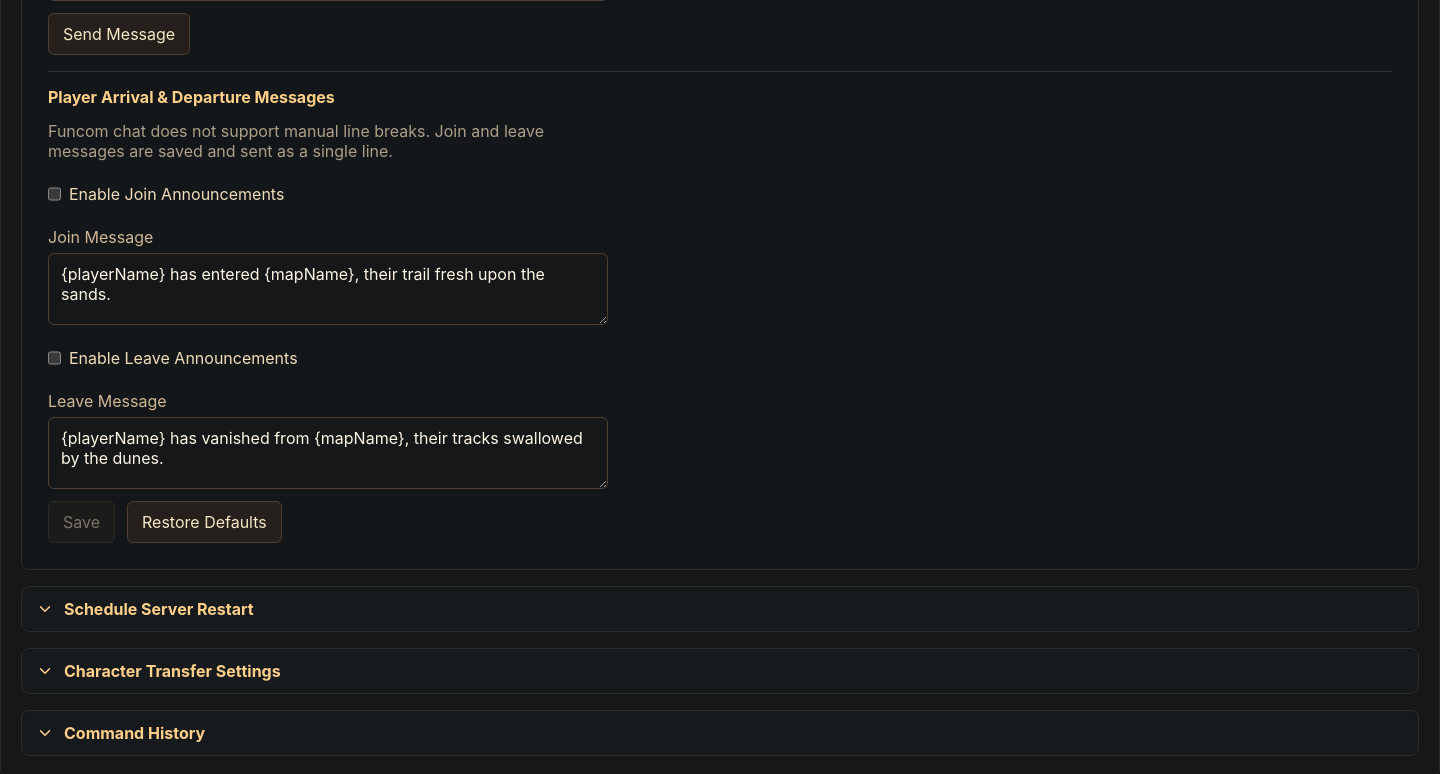
Test case: Character transfer live settings › allows an unchanged retry and displays the saved-but-not-applied error
(page scrolled)
Click the button with aria-label "Expand Character Transfer Settings". click: [172, 671]
box: [22,649,1418,693]
(page scrolled)
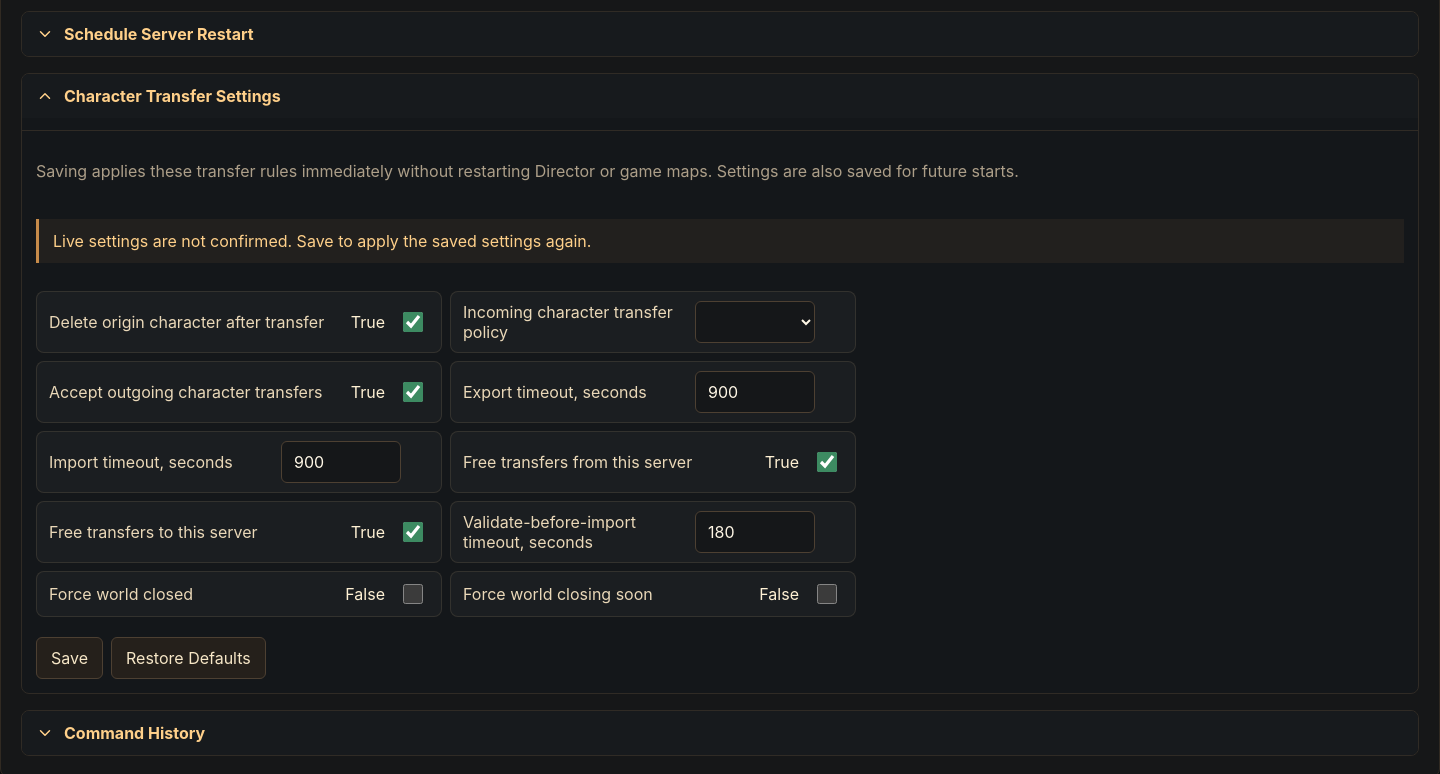
Now the number field labelled "Export timeout, seconds" is shown, box [695,371,815,413]
Now the button "Save" below "Force world closed" is enabled
Click the button "Save" below "Force world closed". click: [70, 658]
box: [36,637,103,679]
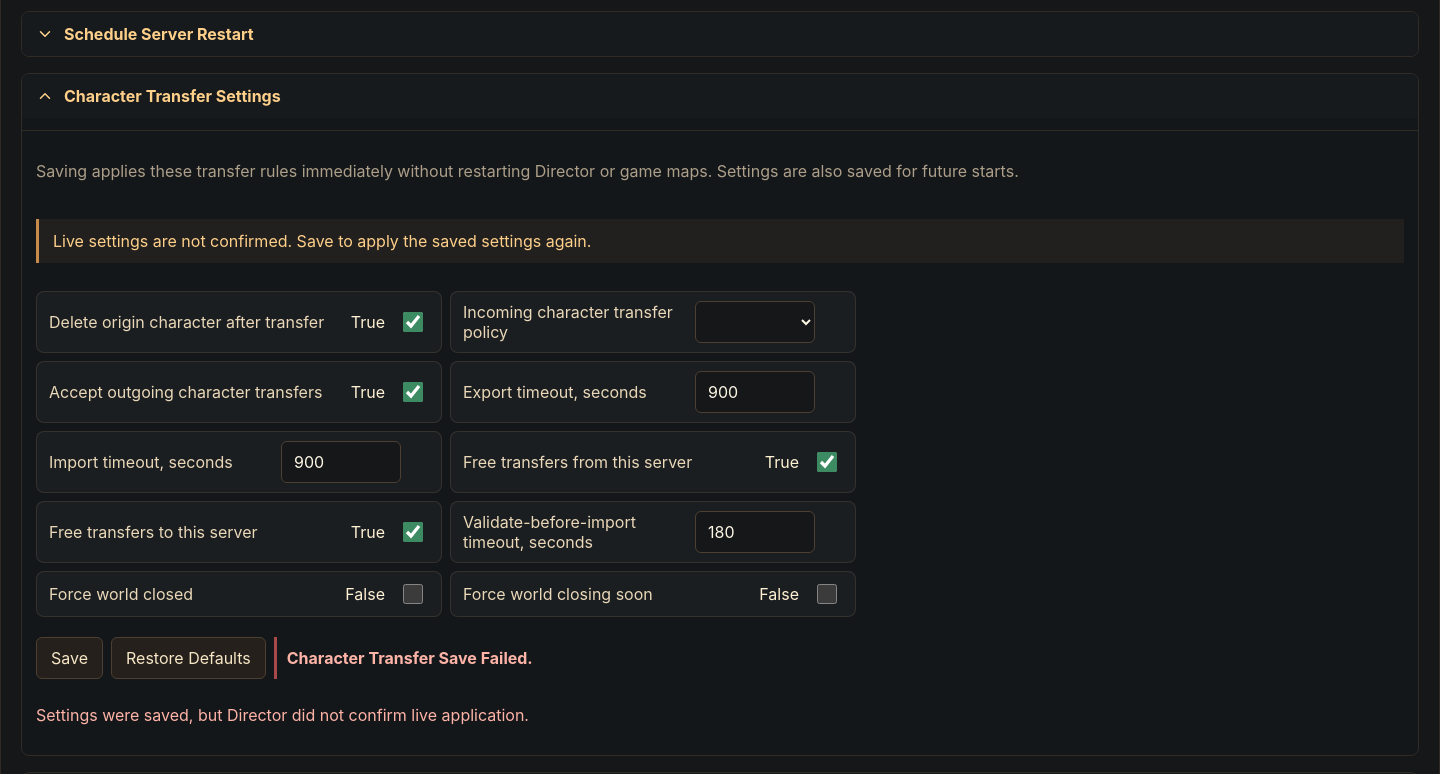
Now the button "Save" in the row of "Character Transfer Save Failed." is enabled
Now the message shows "Settings were saved", box [36,705,529,725]
Click the button "Save" in the row of "Character Transfer Save Failed.". click: [70, 658]
box: [36,637,103,679]
(page scrolled)
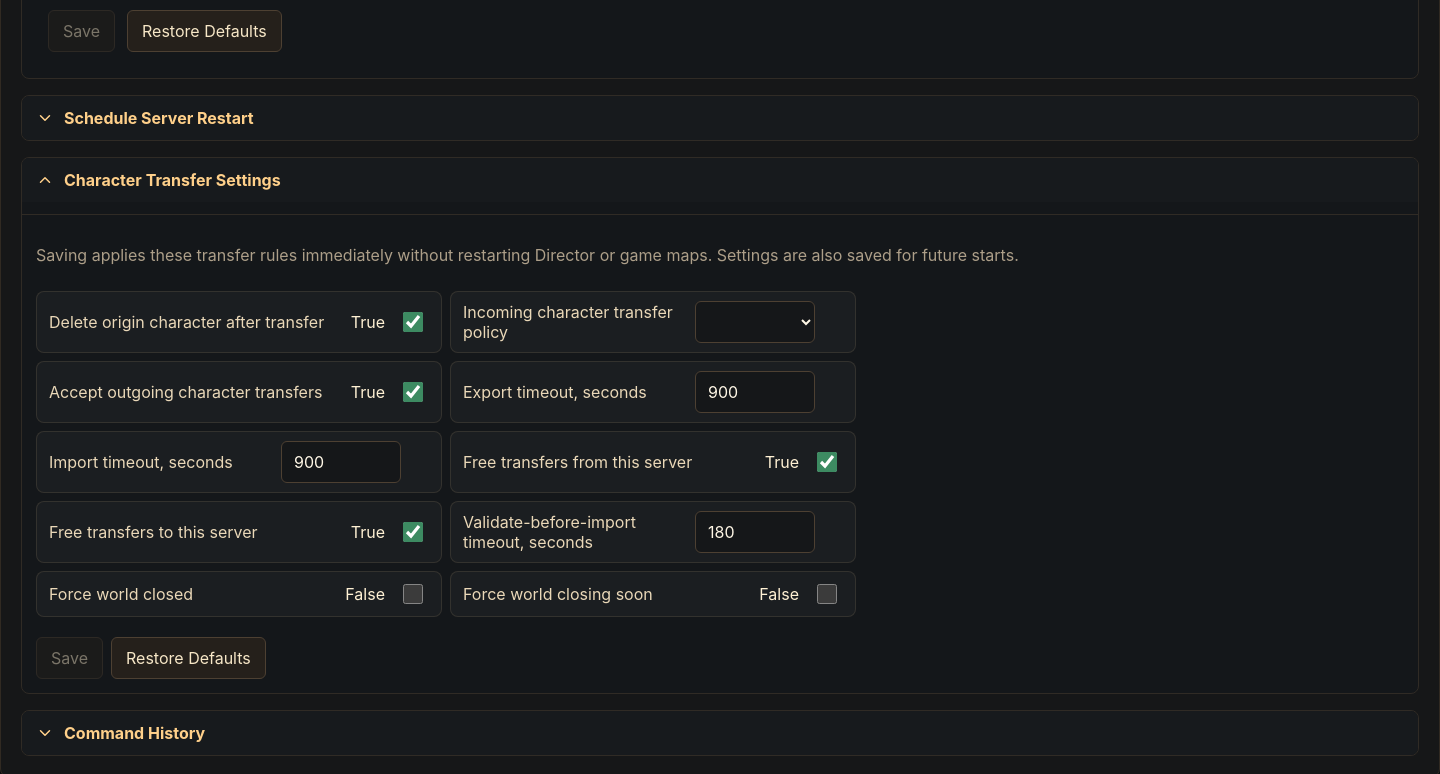
Now the button "Save" below "Force world closed" is disabled, box [36,637,103,679]
